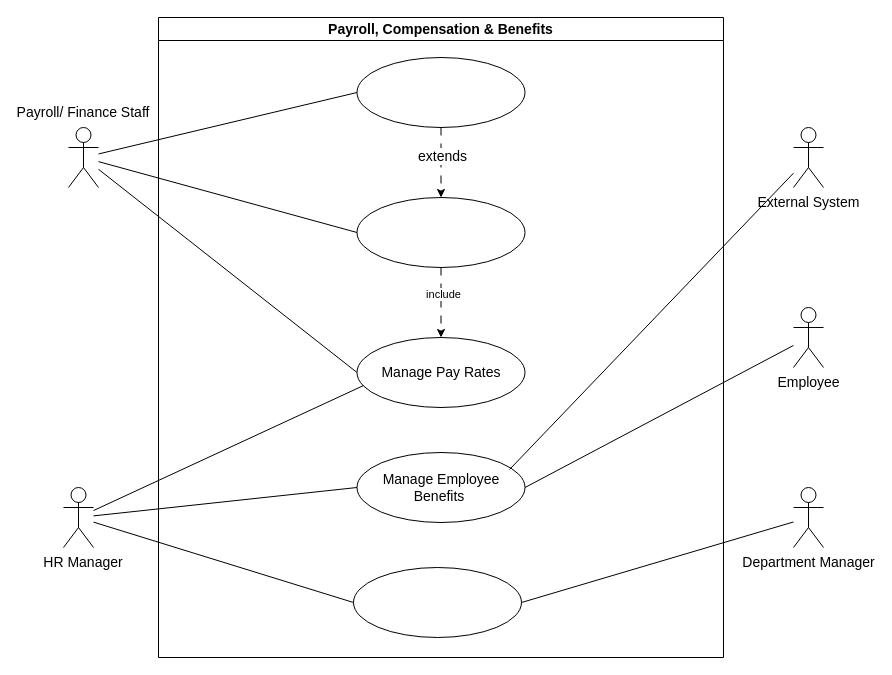
The diagram is 892 pixels wide and 675 high, and some of its shapes have lost their labels. Here are the shapes that lost their labels. From the top down, the centre of each, then its label:
At [440,92]: "Correct Payroll Error".
At [440,232]: "Process Payroll".
At [437,602]: "Manage Compensation".
